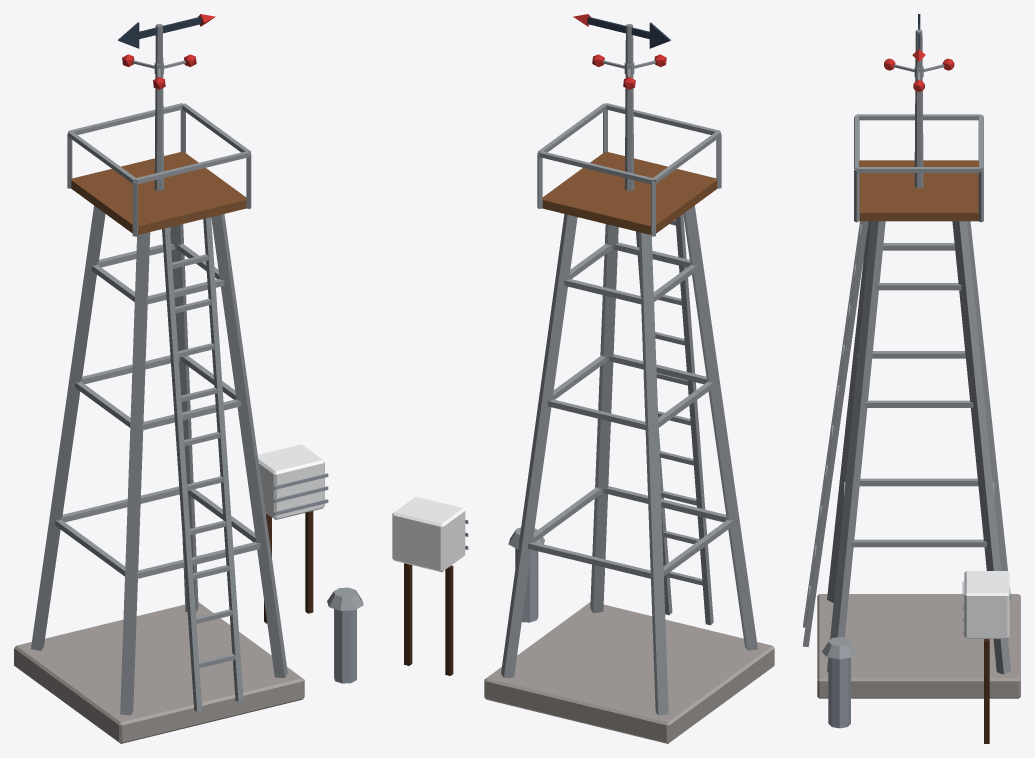
Rendered from menara_cuaca_v001.glb.
3 views of the same model, side by side, from view 1: azimuth 30°, elevation 25°; view 2: azimuth 150°, elevation 25°; view 3: azimuth 270°, elevation 25° (orthographic). The views are drawn at different scales.
Parts seen in each view (by area): view 1: Menara_Cuaca, Anemometer; view 2: Menara_Cuaca, Anemometer; view 3: Menara_Cuaca, Anemometer.
Boxes of the visible parts, box(x1,y1,x2,y2) form: Menara_Cuaca: box(14, 14, 363, 743); Anemometer: box(122, 54, 196, 89); Menara_Cuaca: box(392, 14, 774, 743); Anemometer: box(592, 54, 666, 89); Menara_Cuaca: box(803, 14, 1020, 743); Anemometer: box(884, 58, 954, 91).
Bounding box in the file's own units: 2.76 × 6.17 × 1.92.
